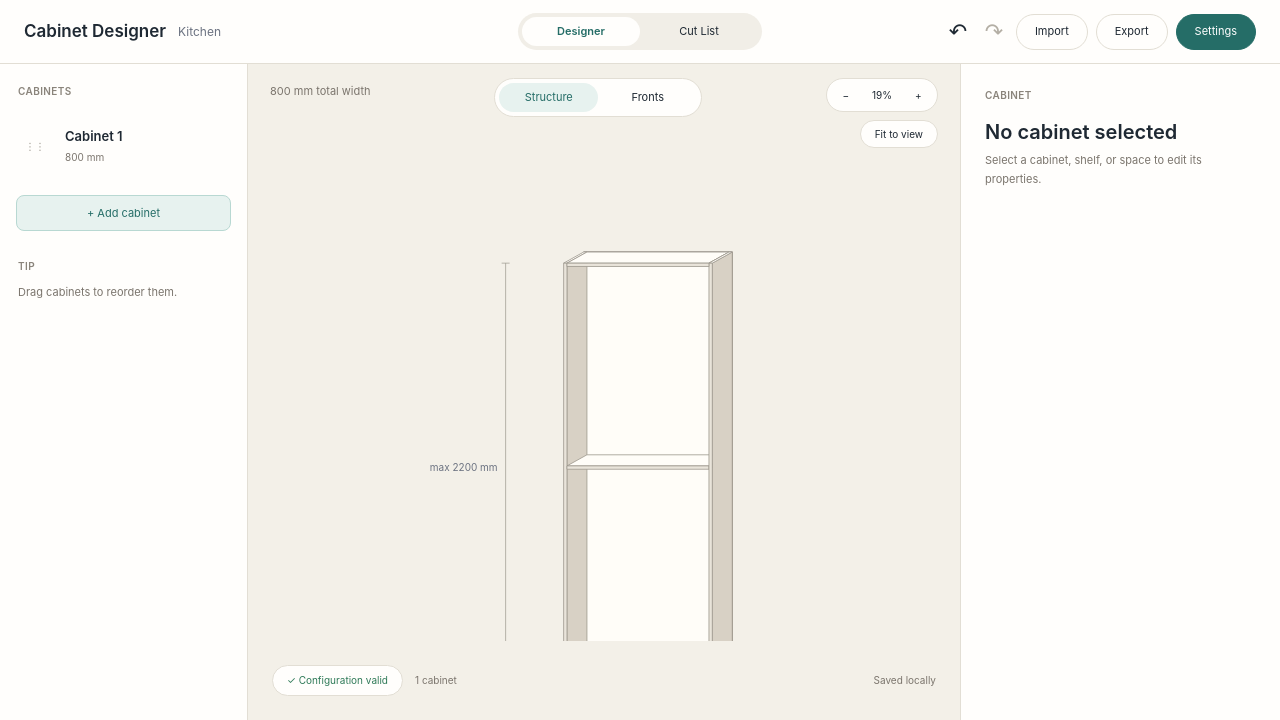
Scenario: application shell › connects undo and redo controls to project history
This screenshot has width=1280, height=720.
Expected: the text "Kitchen" is shown, [178,22,221,40]
Expected: the button named "Redo" is disabled, [980,14,1008,50]
Click the button named "Undo" at (958, 32), box [944,14,972,50]
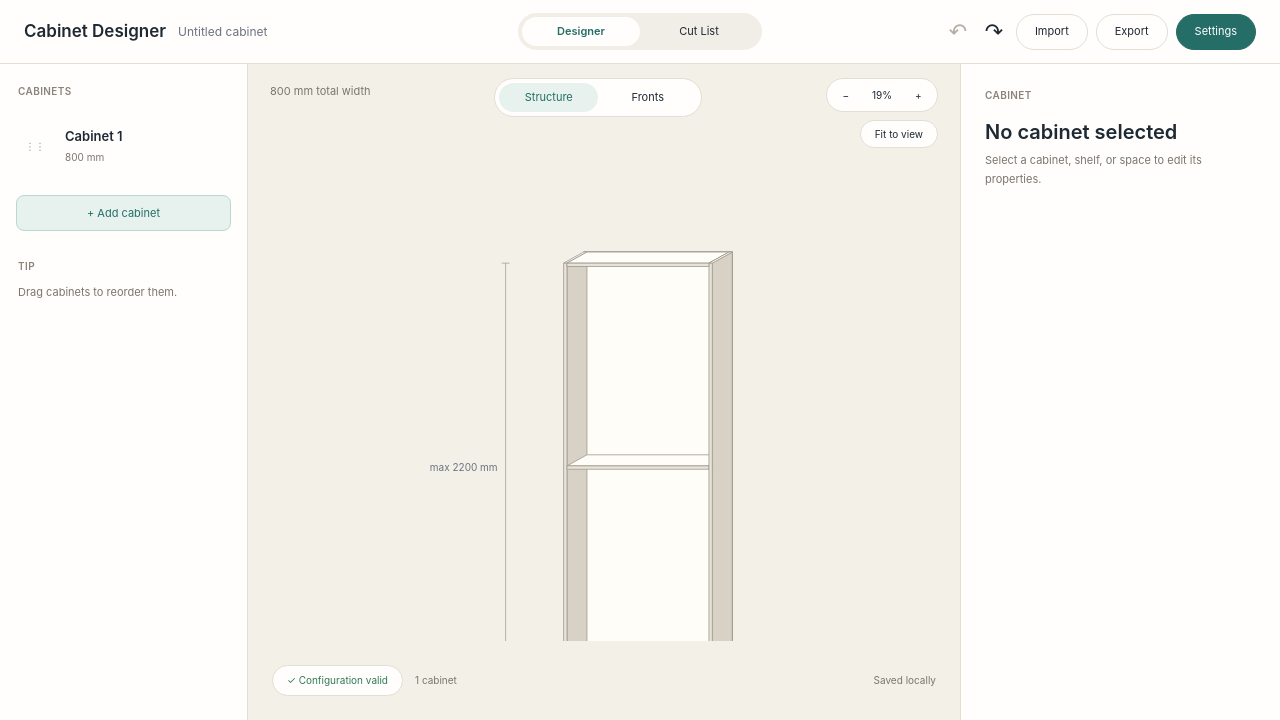
Now the text "Untitled cabinet" is shown, box [178,22,267,40]
Now the button named "Undo" is disabled, box [944,14,972,50]
Click the button named "Redo" at (994, 32), box [980,14,1008,50]
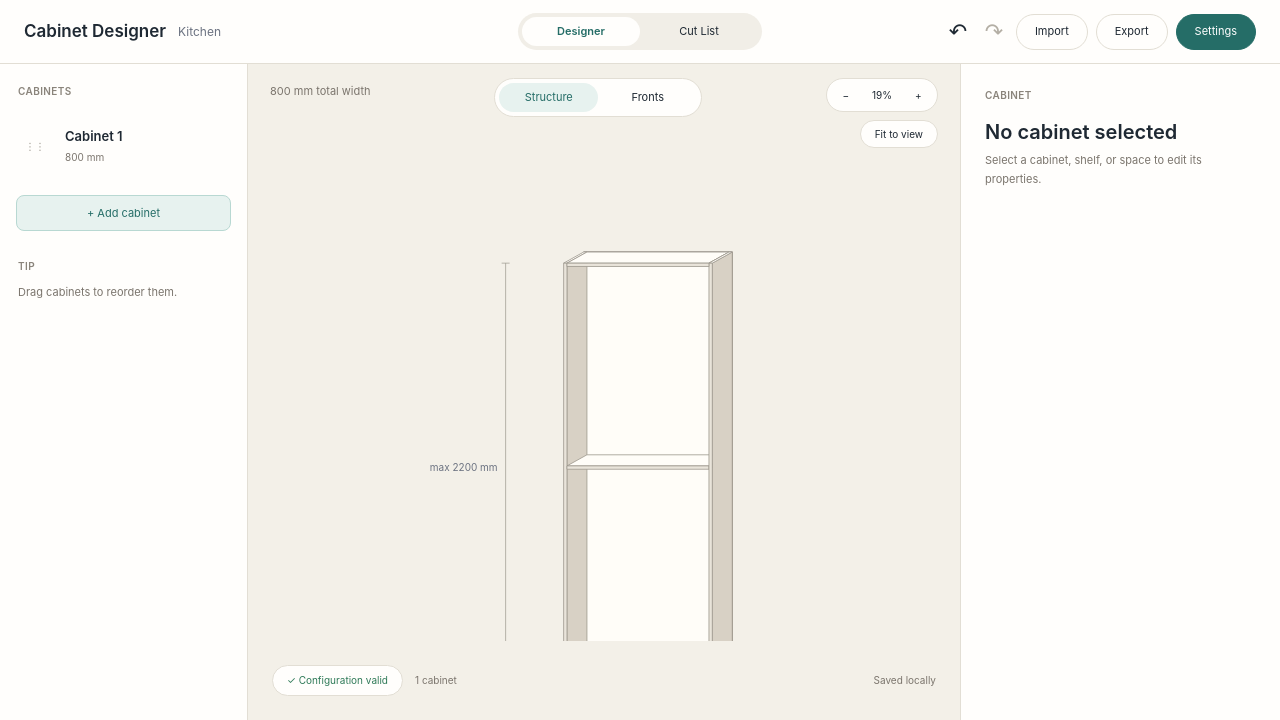
Now the text "Kitchen" is shown, box [178,22,221,40]
